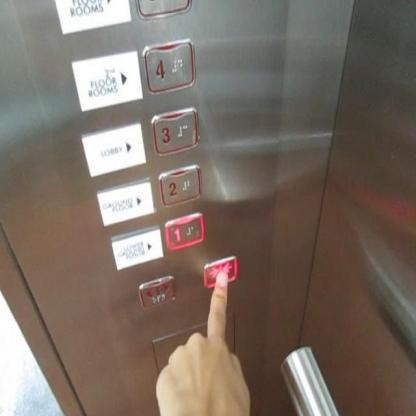1: (164, 211, 205, 251)
2: (158, 164, 201, 206)
3: (152, 106, 198, 156)
4: (142, 38, 195, 93)
close: (203, 254, 237, 290)
open: (136, 275, 175, 312)
